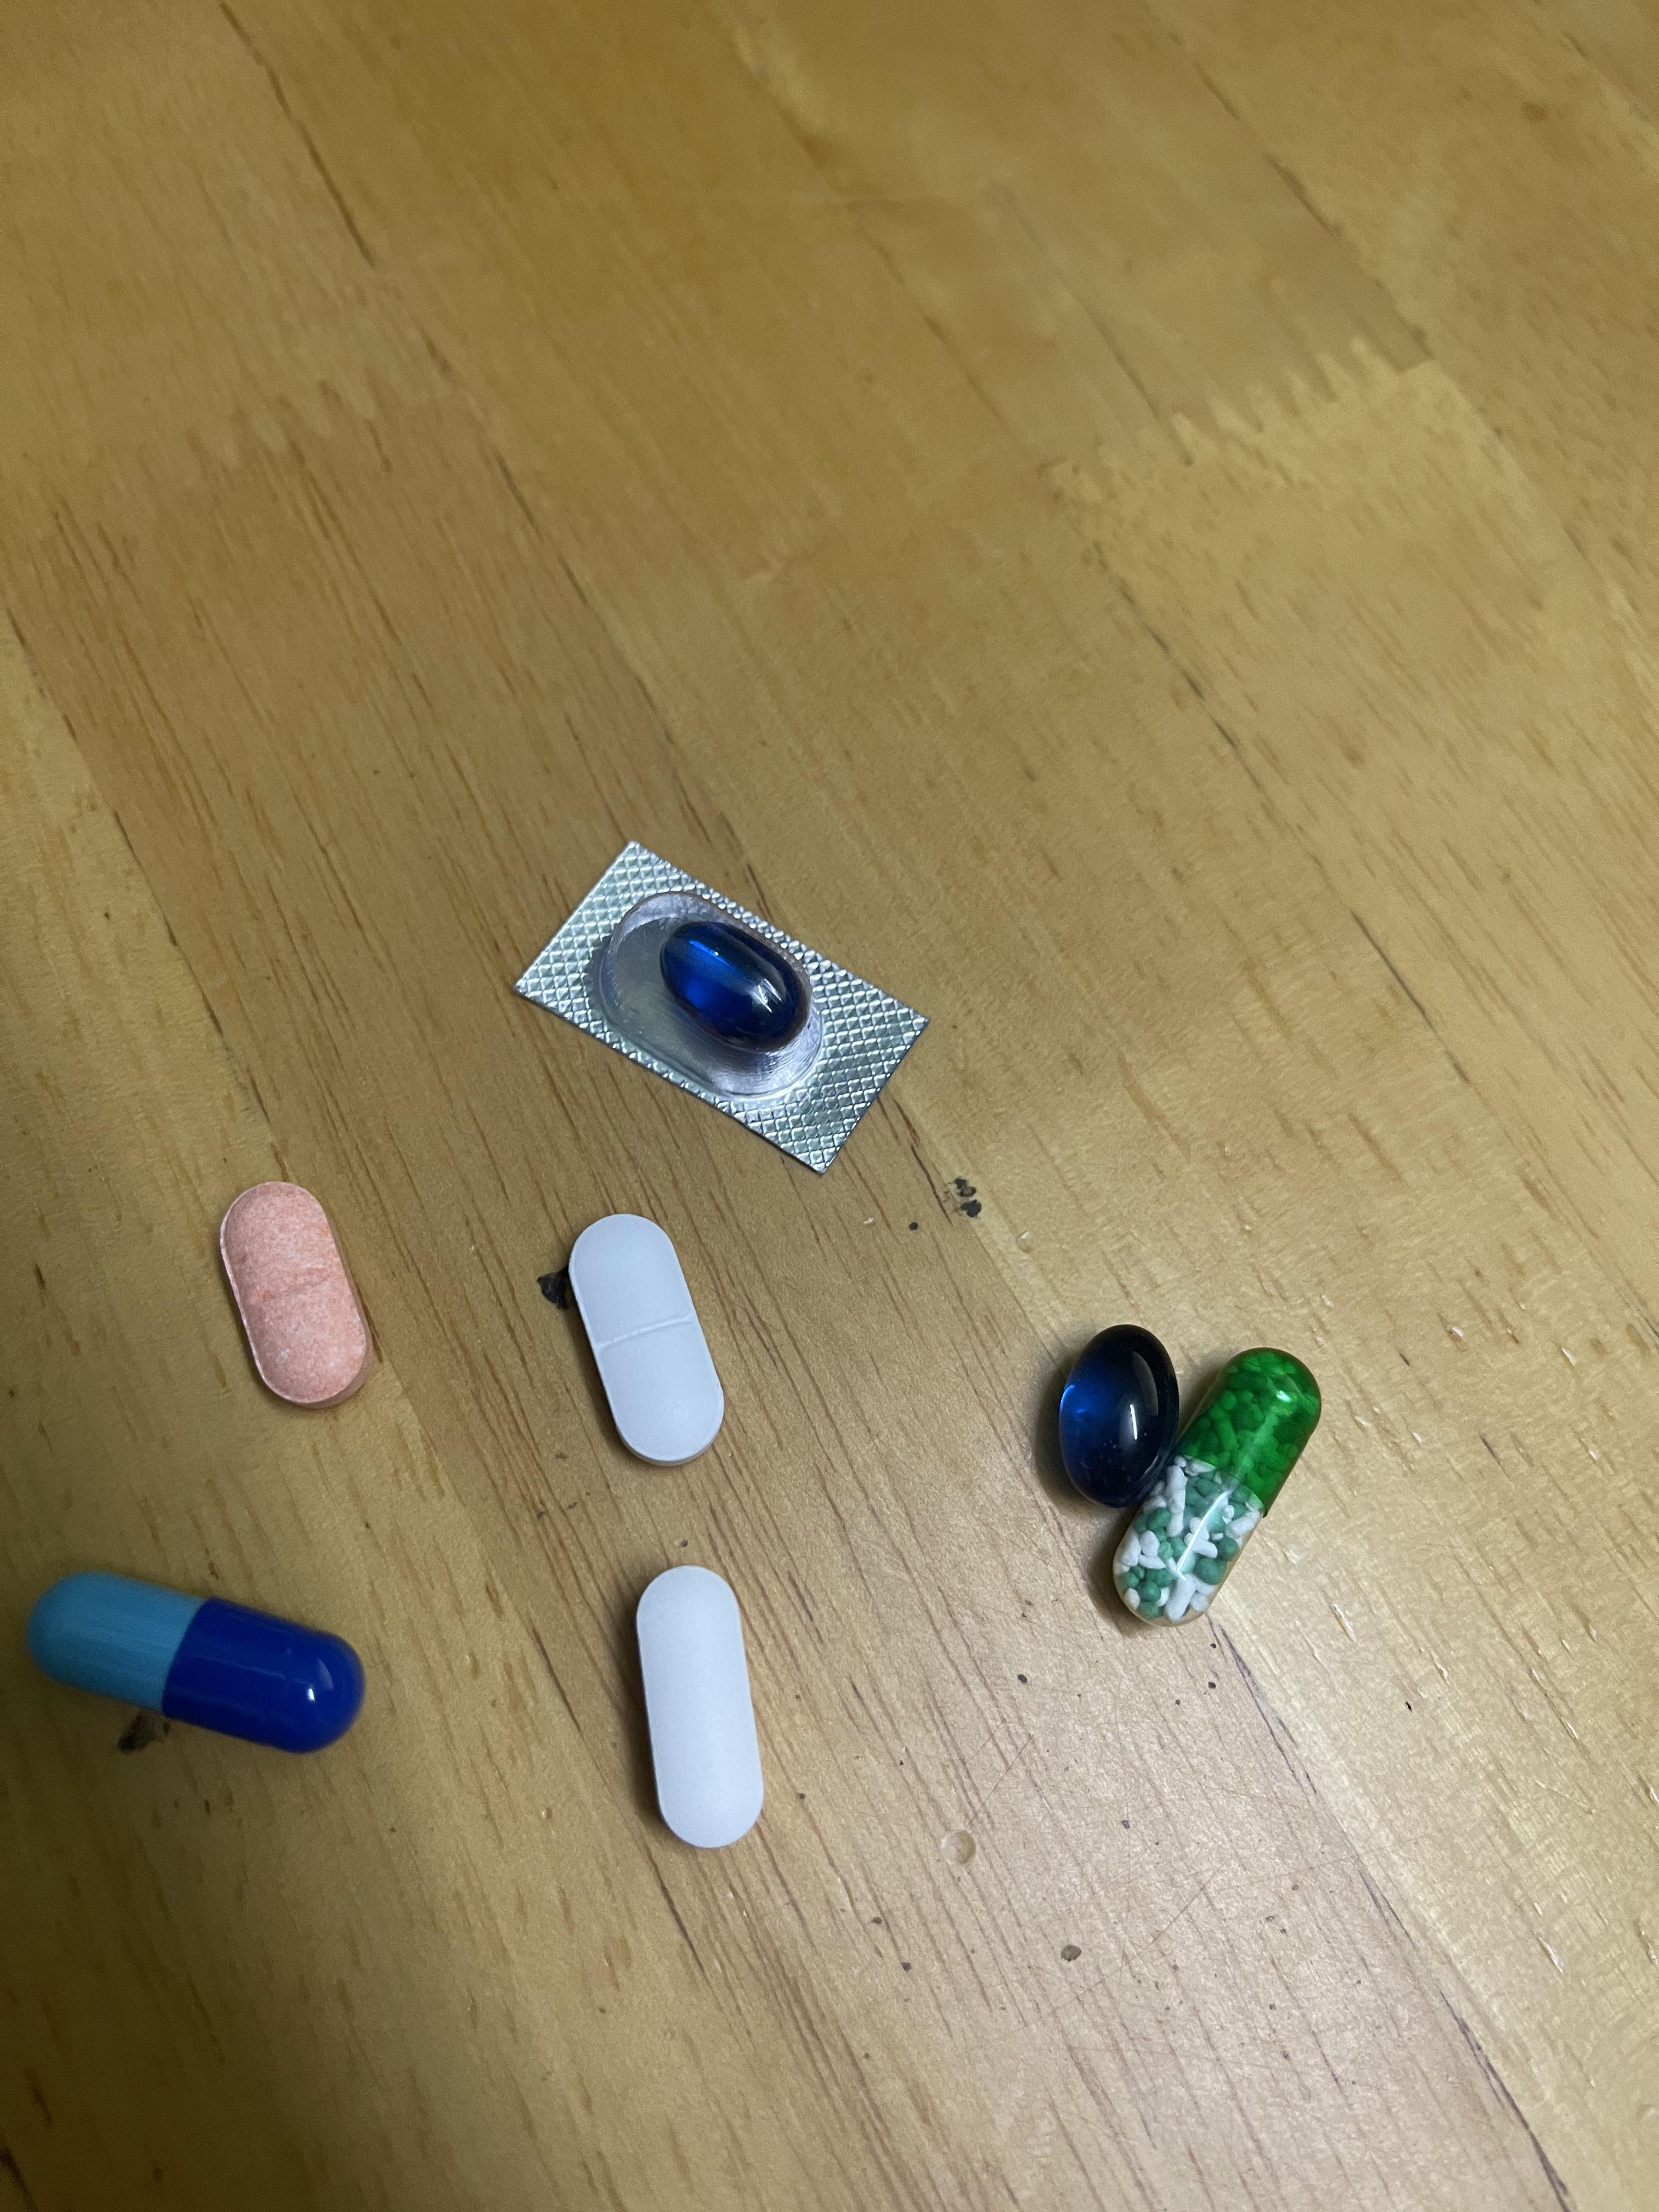Lincomyxin_500mg: (1058, 1327, 1173, 1505), (660, 921, 805, 1047)
Loratadine_10mg: (220, 1184, 373, 1407)
Paracetamol_350mg: (570, 1217, 723, 1461)
Paracetamol_500mg: (634, 1569, 763, 1841)
Paracetamol_650mg: (1117, 1355, 1316, 1620)
pill: (30, 1576, 361, 1752)
